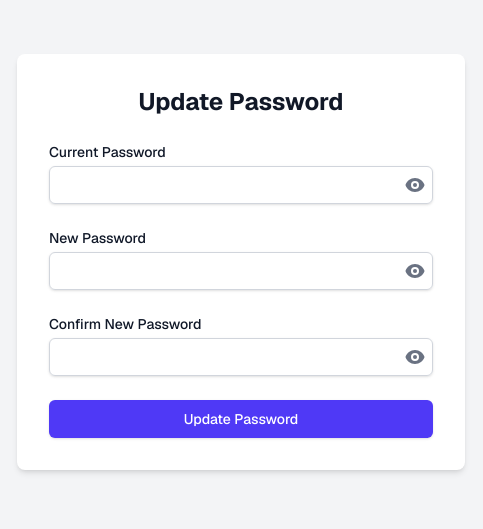
Test: UpdatePasswordForm - Comprehensive Tests › Password Complexity Validation › should show validation error for new password that doesn't meet complexity requirements
The width and height of the screenshot is (483, 529).
Step 1. Type "password123" into the password field labelled "Current Password" → x=241, y=185, box [49, 166, 433, 204]
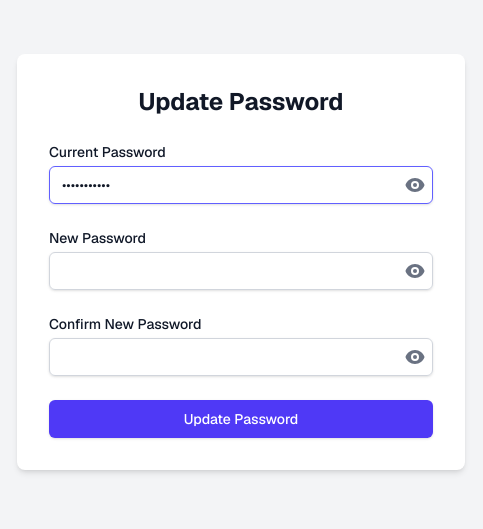
Step 2. Type "password" into the password field labelled "New Password" → x=241, y=271, box [49, 252, 433, 290]
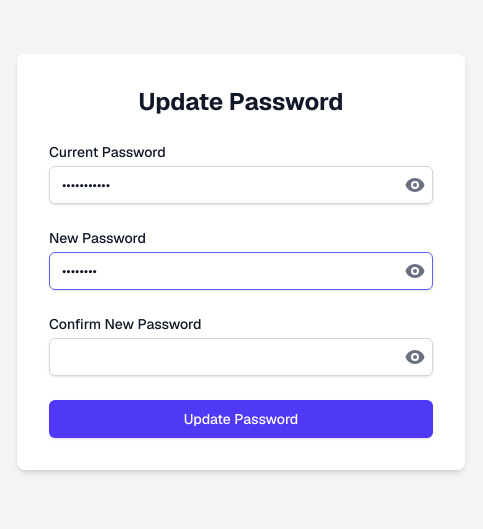
Step 3. Click the button "Update Password" → x=241, y=419, box [49, 400, 433, 438]
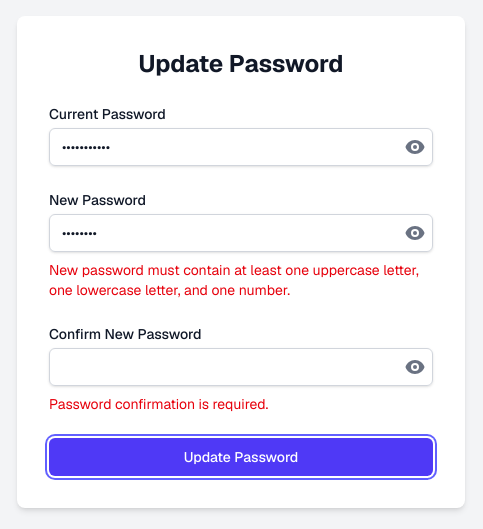
Expected: the text "New password must contain at least one uppercase letter, one lowercase letter, and one number." is shown, [49, 261, 419, 299]
